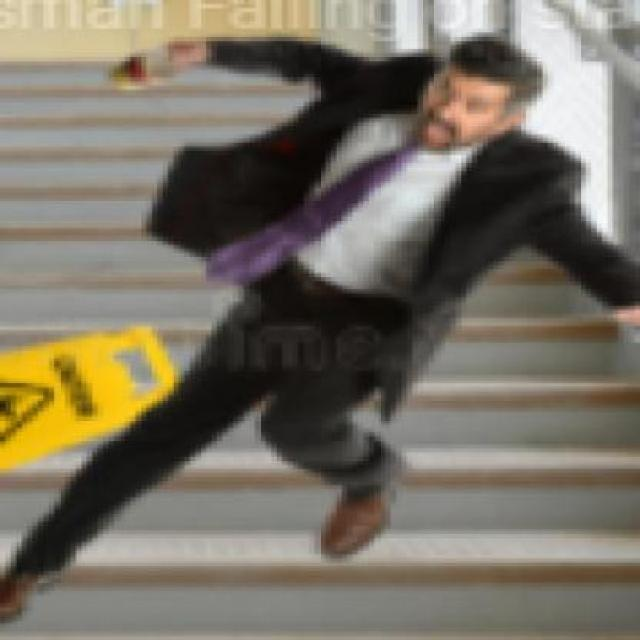fall: (0, 28, 635, 623)
